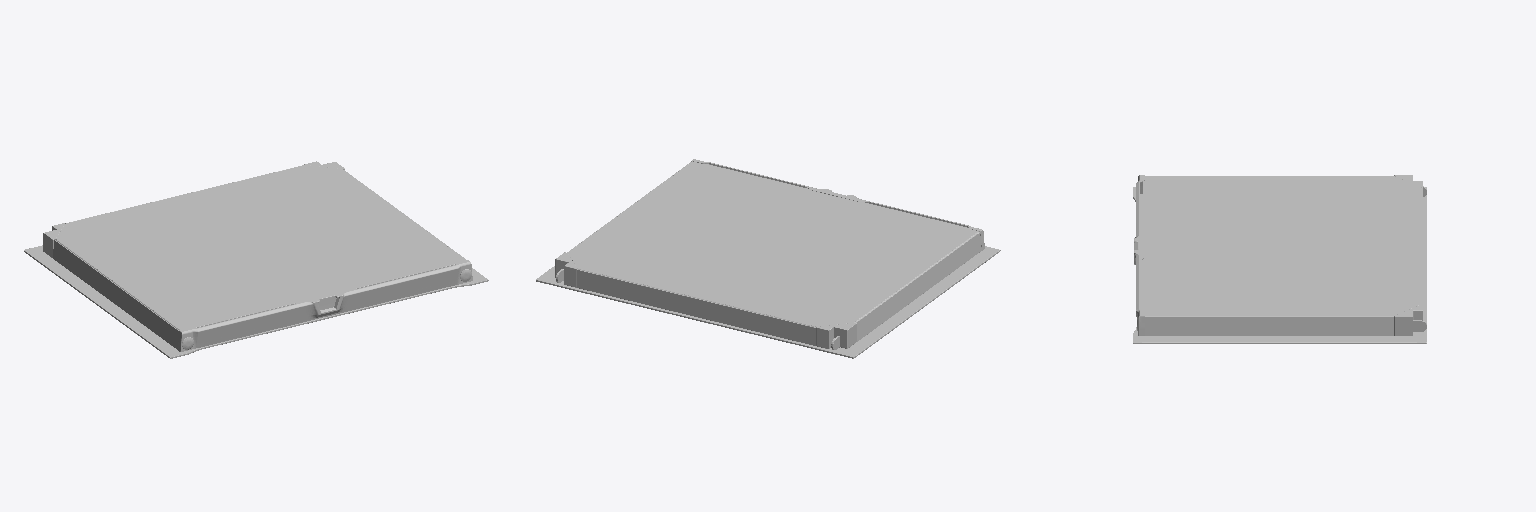
File: OvenDoor.obj
The picture shows the model from 3 angles: view 1: azimuth 30°, elevation 25°; view 2: azimuth 150°, elevation 25°; view 3: azimuth 270°, elevation 25°; orthographic projection.
Visible parts, largest first — view 1: SM_Oven_Door_17; view 2: SM_Oven_Door_17; view 3: SM_Oven_Door_17.
Part boxes in pixels (left/top/right/bottom): SM_Oven_Door_17: left=24, top=161, right=488, bottom=358; SM_Oven_Door_17: left=536, top=159, right=1000, bottom=358; SM_Oven_Door_17: left=1133, top=175, right=1426, bottom=343.
Size of the model in its own units: 59.09 by 3.71 by 47.31.